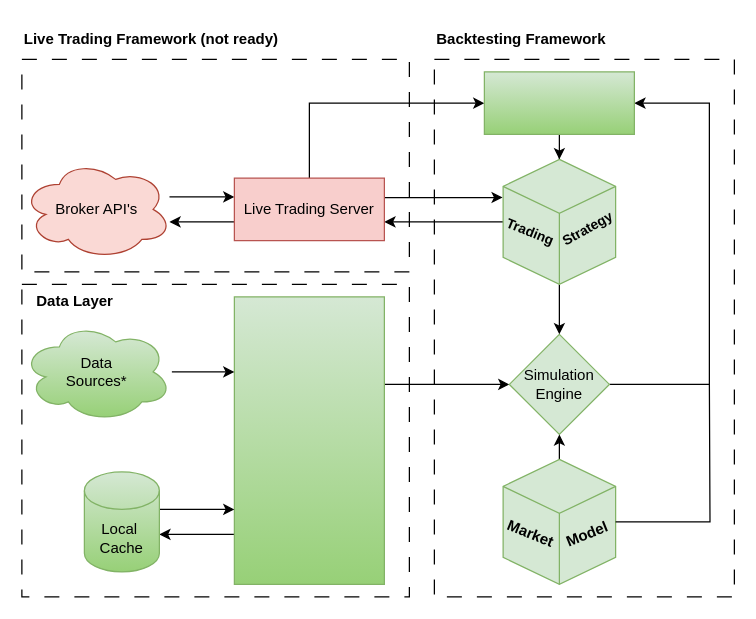
Image size: 756x619. Some labels were removed from this diagram. The centre of each missing label's shape, as x and y in pixels:
ETL Module: [308,440]
Performance Analysis: [558,102]
